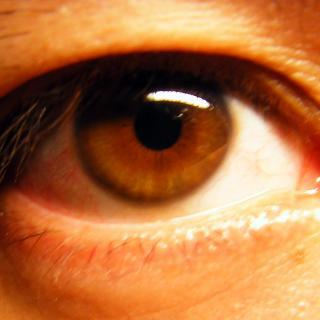pupil: (135, 102, 182, 149)
